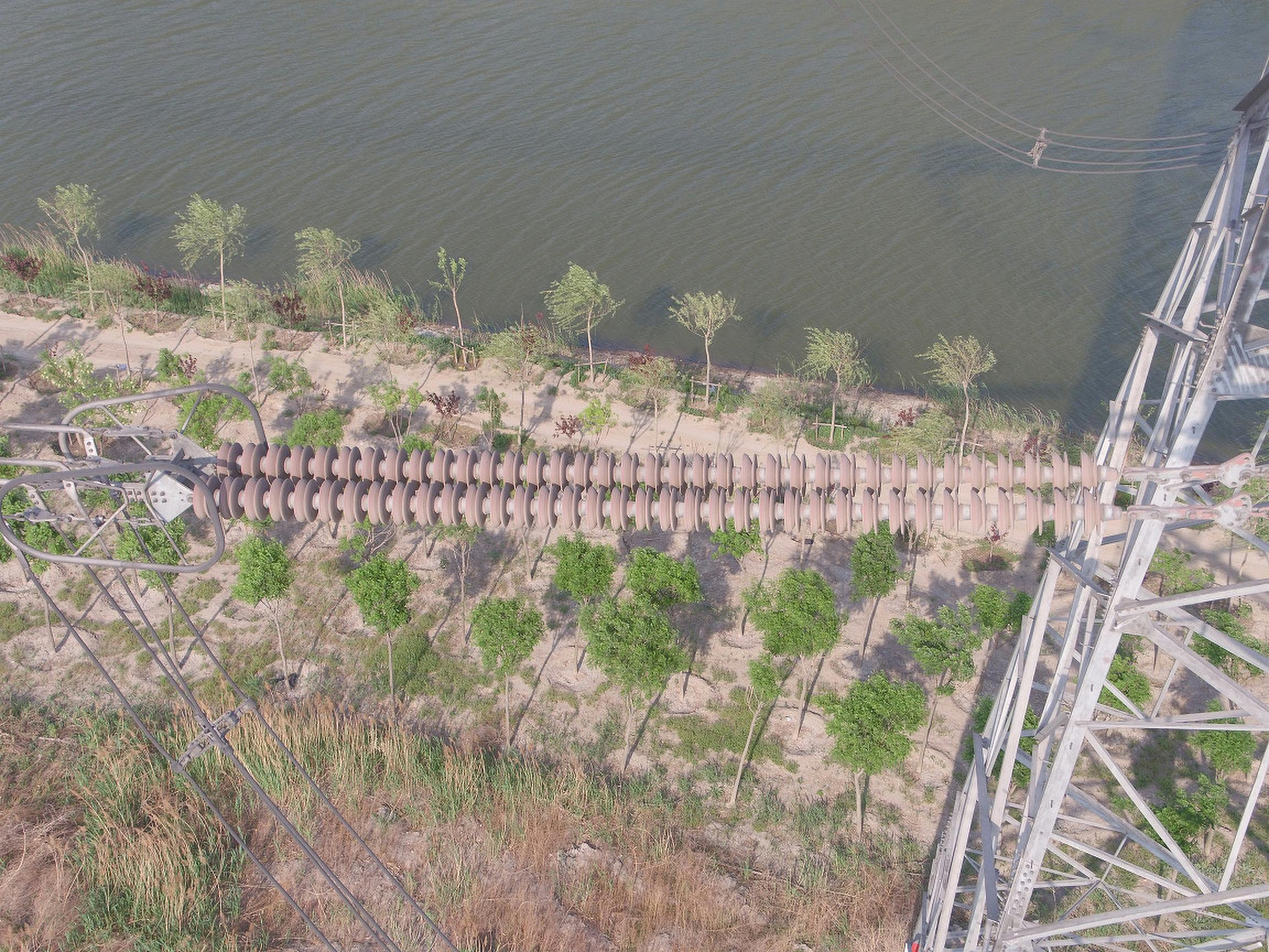insulator: (188, 434, 1108, 543)
